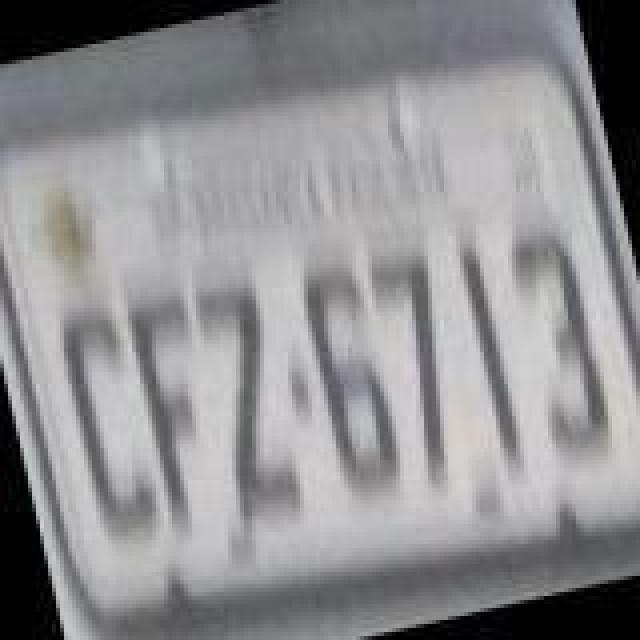1: (446, 230, 530, 474)
3: (498, 220, 622, 476)
6: (294, 258, 410, 510)
7: (366, 242, 482, 494)
C: (52, 296, 172, 552)
F: (122, 288, 238, 544)
Z: (188, 276, 308, 532)
